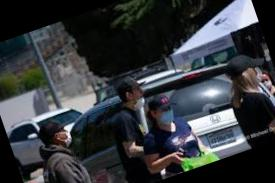mask_weared_incorrect: (132, 85, 152, 108)
with_mask: (155, 104, 179, 128), (55, 124, 77, 149), (249, 64, 267, 85), (260, 75, 274, 93)
